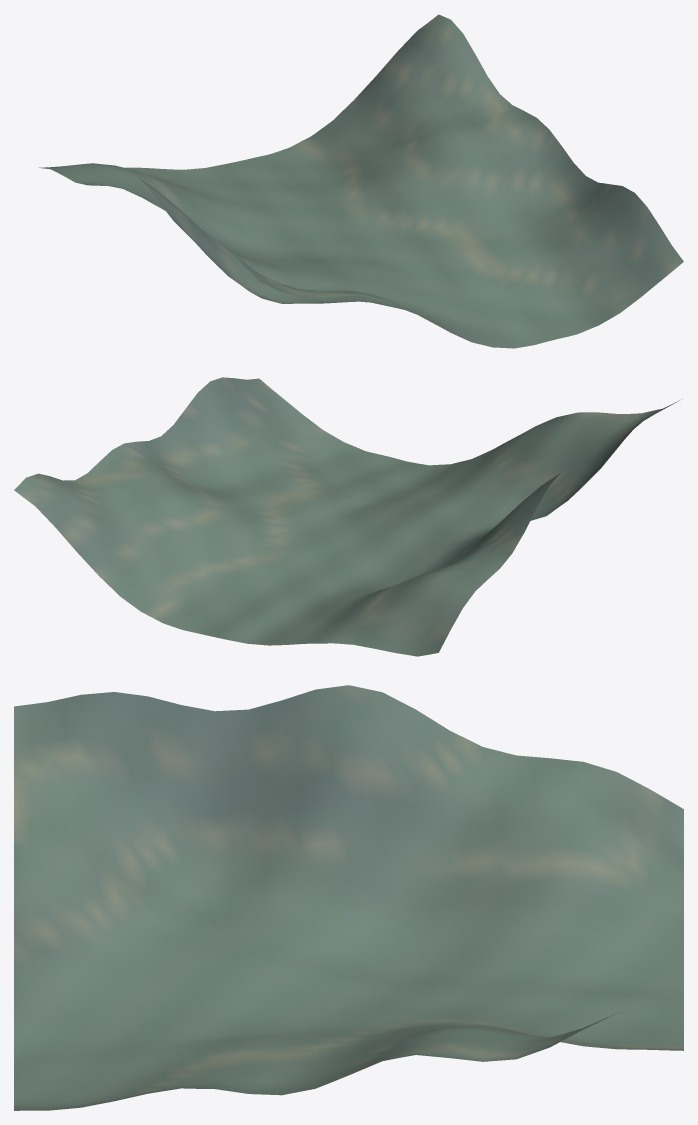
File: ridge_-1_-6.glb
3 views of the same model, one above another, from view 1: azimuth 30°, elevation 25°; view 2: azimuth 150°, elevation 25°; view 3: azimuth 270°, elevation 25° (orthographic). The views are drawn at different scales.
Size of the model in its own units: 220 by 72.51 by 220.
